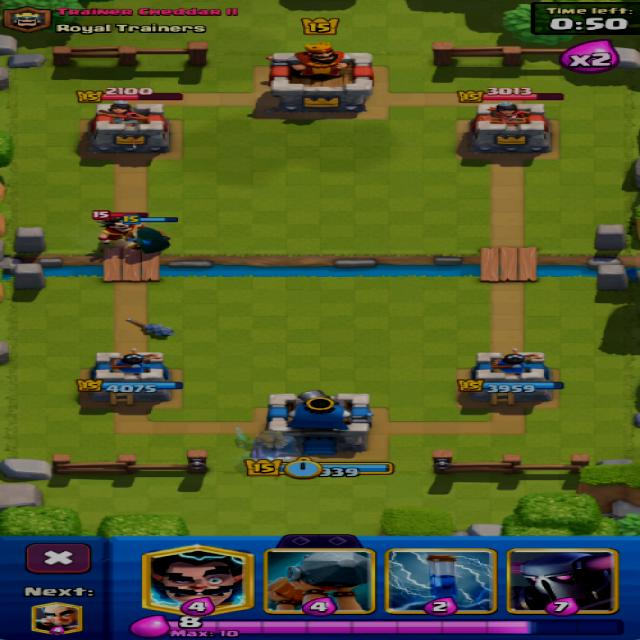Enemy-ElectroWizard: (99, 218, 143, 245)
Enemy-KingTower: (269, 42, 372, 112)
Enemy-PrincessTower: (88, 100, 169, 152), (470, 102, 550, 154)
